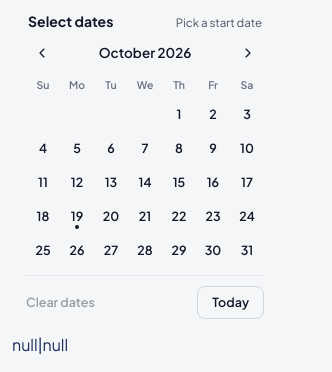
Test case: DateCalendar range › makes an earlier day the new start instead of a backwards range
Click the button "10": (247, 148) [230,131,264,165]
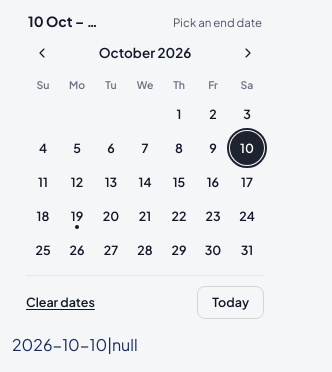
Click the button "4": (43, 148) [26,131,60,165]
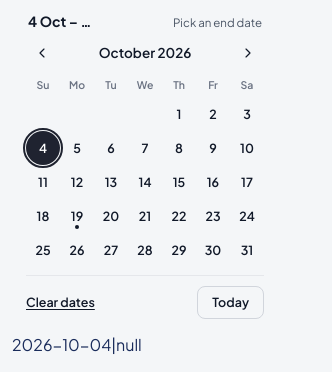
Result: the text with test id "value" reads "2026-10-04|null" at [12,334,142,355]
